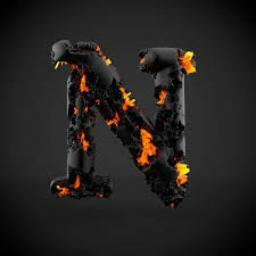n: (40, 34, 200, 216)
